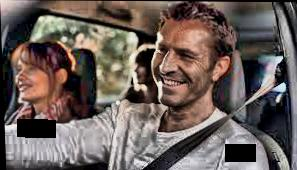seatbelt: (134, 65, 290, 170)
